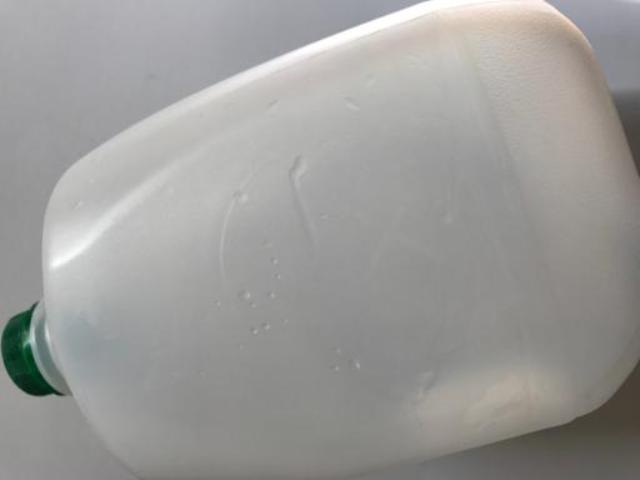plastic: (1, 0, 639, 476)
